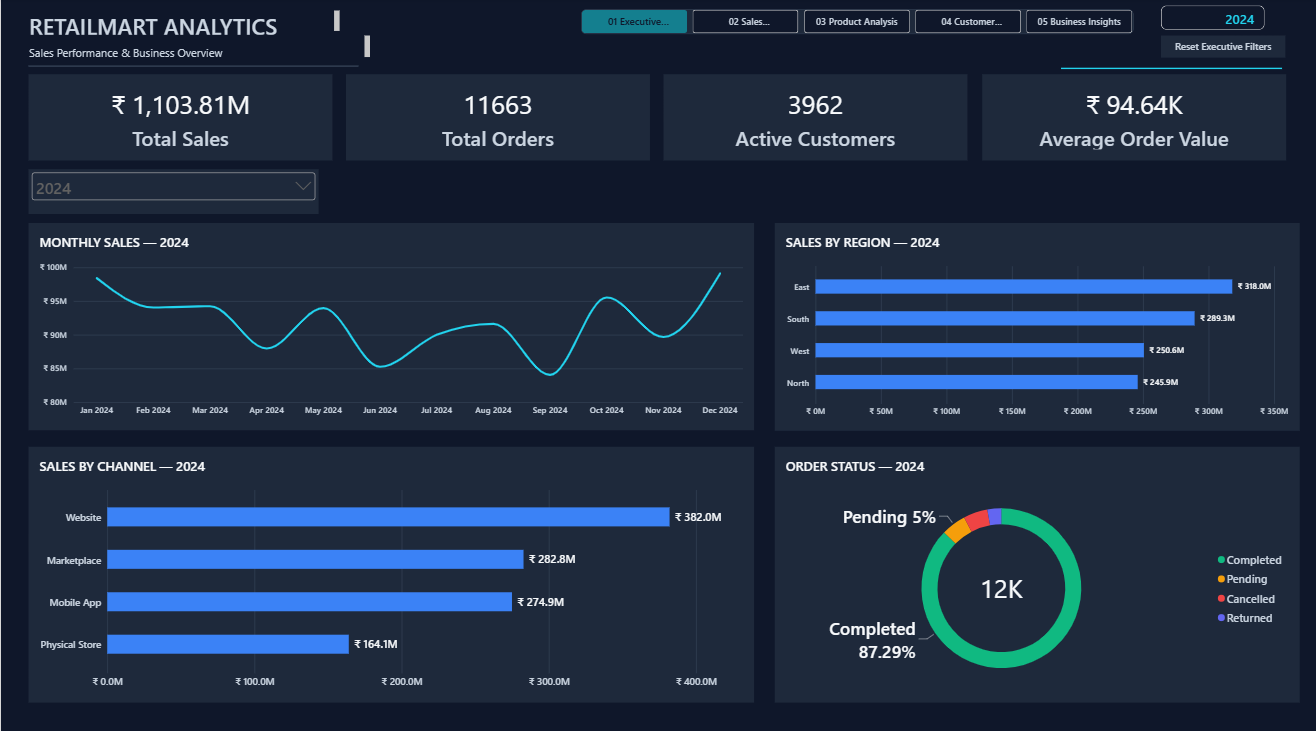

The page's visual inventory and layout, read from the dashboard file:
{"tool":"powerbi","page":{"name":"01 Executive Overview","canvas":[1920,1080],"ordinal":0},"visuals":[{"type":"textbox","box":[40,18,450,35],"z":0},{"type":"textbox","box":[39.8,54.3,494,34.4],"z":1000},{"type":"shape","box":[40,72.4,477.8,52.5],"z":2000},{"type":"shape","box":[1535,96,320,12],"z":3000},{"type":"card","fields":{"Values":["_Measures.Total Sales"]},"box":[40,110,440,125],"z":4000},{"type":"card","fields":{"Values":["_Measures.Total Orders"]},"box":[500,110.4,440,125],"z":5000},{"type":"card","fields":{"Values":["_Measures.Active Customers"]},"box":[960,110,440,125],"z":6000},{"type":"card","fields":{"Values":["_Measures.Average Order Value"]},"box":[1420,110.4,440,125],"z":7000},{"type":"slicer","title":"YEAR","fields":{"Values":["DimDate.Year"]},"box":[40,247.9,419.8,65],"z":8000},{"type":"cardVisual","fields":{"Data":["_Measures.Selected Year Title"]},"box":[1680,10,150,35],"z":9000},{"type":"lineChart","fields":{"Category":["DimDate.Month Year"],"Y":["_Measures.Total Sales"]},"box":[40,325,1050,300],"z":10000},{"type":"clusteredBarChart","fields":{"Category":["DimStore.Store_Region"],"Y":["_Measures.Total Sales"]},"box":[1120,325,760,301],"z":11000},{"type":"clusteredBarChart","fields":{"Category":["FactOrders.Sales_Channel"],"Y":["_Measures.Total Sales"]},"box":[40,650,1050,370],"z":12000},{"type":"donutChart","fields":{"Category":["FactOrders.Order_Status"],"Y":["_Measures.Total Orders"]},"box":[1120.2,650,760.1,370],"z":13000},{"type":"actionButton","box":[1680,55,180,32],"z":14000},{"type":"pageNavigator","box":[839.7,16.3,800,36],"z":15000}]}

Visuals, with their boxes in screenshot pixels (x1, y1, x2, y2), scaled from the page's 1920x1080 canvas onto the 1316x731 screenshot:
textbox: [left=27, top=12, right=336, bottom=36]
textbox: [left=27, top=37, right=366, bottom=60]
shape: [left=27, top=49, right=355, bottom=85]
shape: [left=1052, top=65, right=1271, bottom=73]
card - _Measures.Total Sales: [left=27, top=74, right=329, bottom=159]
card - _Measures.Total Orders: [left=343, top=75, right=644, bottom=159]
card - _Measures.Active Customers: [left=658, top=74, right=960, bottom=159]
card - _Measures.Average Order Value: [left=973, top=75, right=1275, bottom=159]
"YEAR" slicer: [left=27, top=168, right=315, bottom=212]
cardVisual - _Measures.Selected Year Title: [left=1152, top=7, right=1254, bottom=30]
lineChart - DimDate.Month Year x _Measures.Total Sales: [left=27, top=220, right=747, bottom=423]
clusteredBarChart - DimStore.Store_Region x _Measures.Total Sales: [left=768, top=220, right=1289, bottom=424]
clusteredBarChart - FactOrders.Sales_Channel x _Measures.Total Sales: [left=27, top=440, right=747, bottom=690]
donutChart - FactOrders.Order_Status x _Measures.Total Orders: [left=768, top=440, right=1289, bottom=690]
actionButton: [left=1152, top=37, right=1275, bottom=59]
pageNavigator: [left=576, top=11, right=1124, bottom=35]
